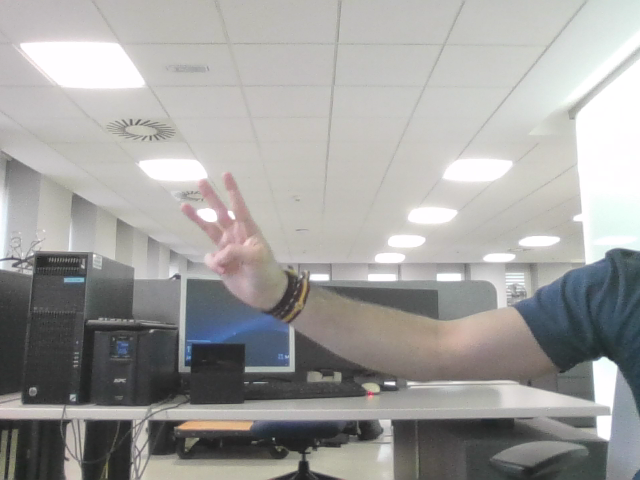3Dedos: (189, 182, 261, 268)
